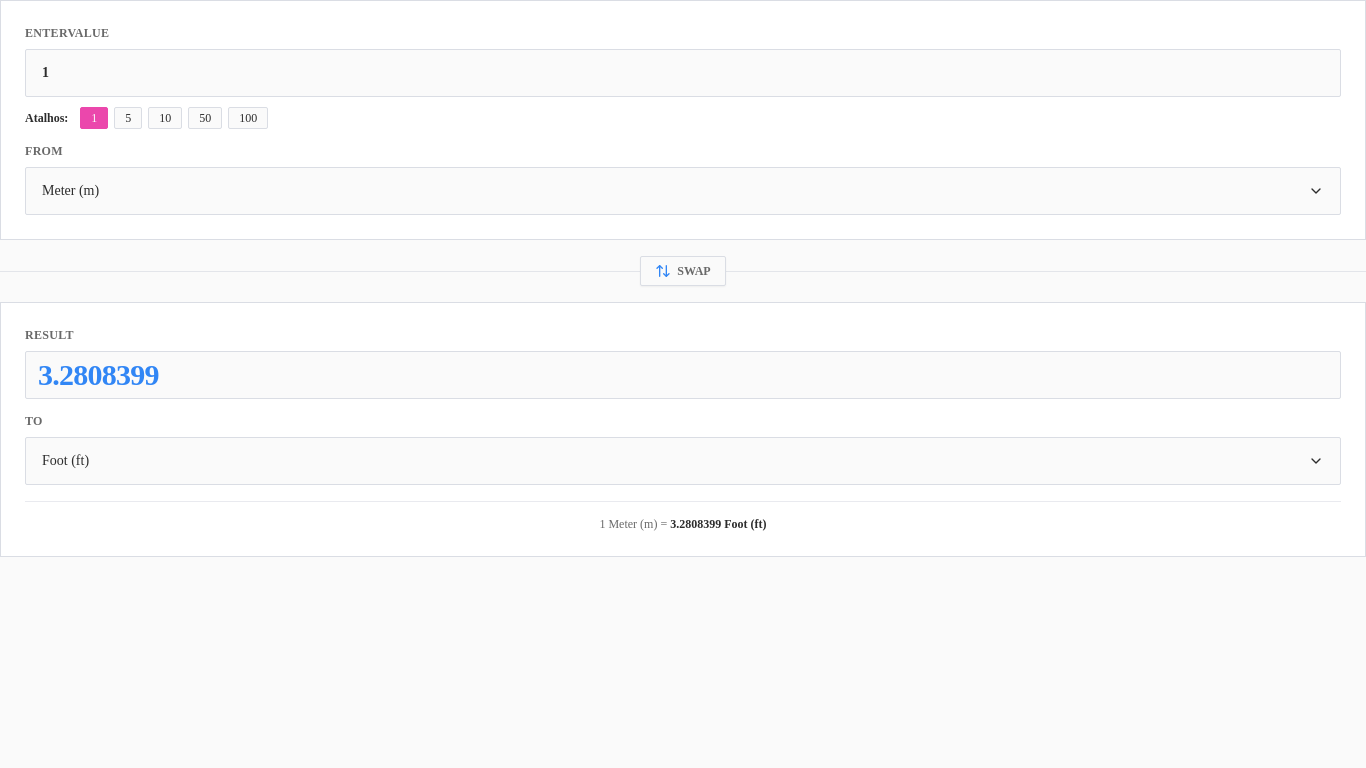
ConversionWidget › changing the input value › shows "—" in the result area when the input is cleared
Clear the number field. click: (683, 73)
box: [25,49,1341,97]
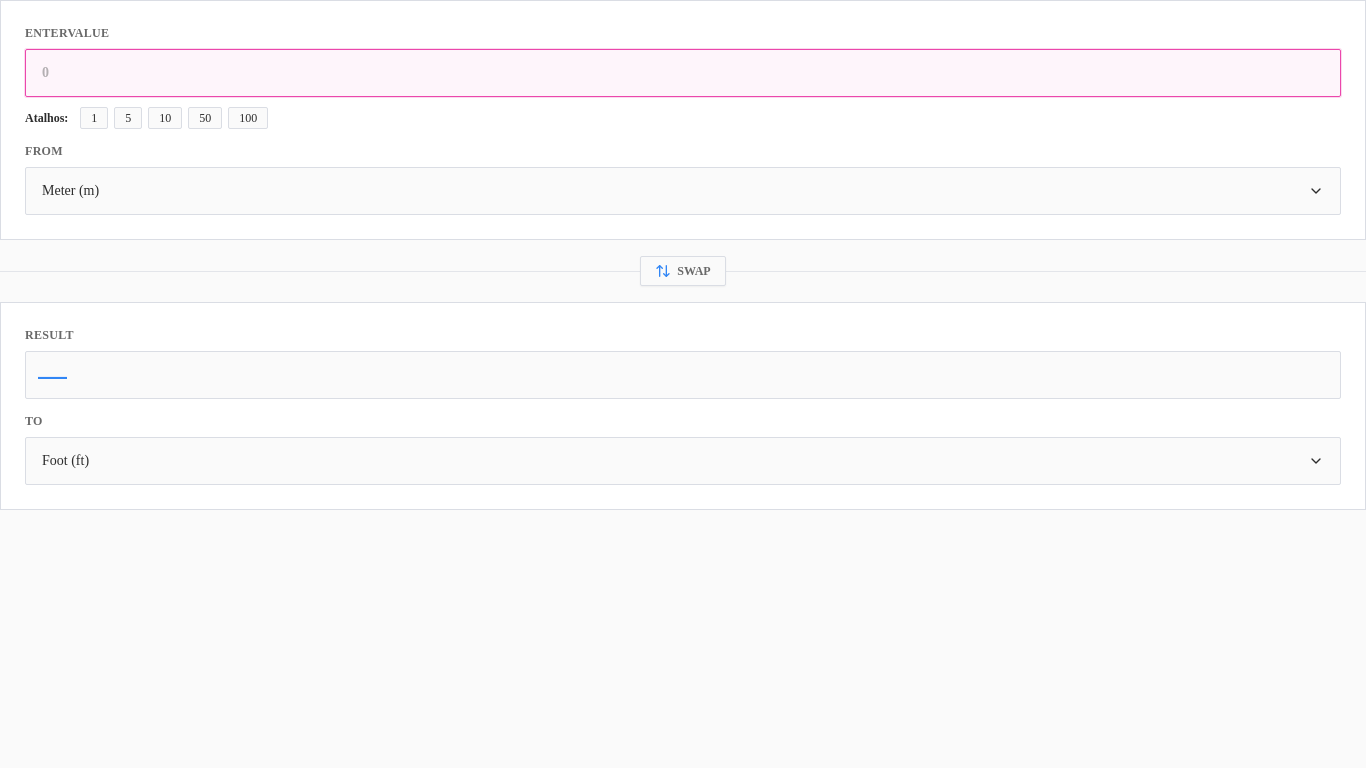
Now the text "—" is shown, box [38,357,67,393]
